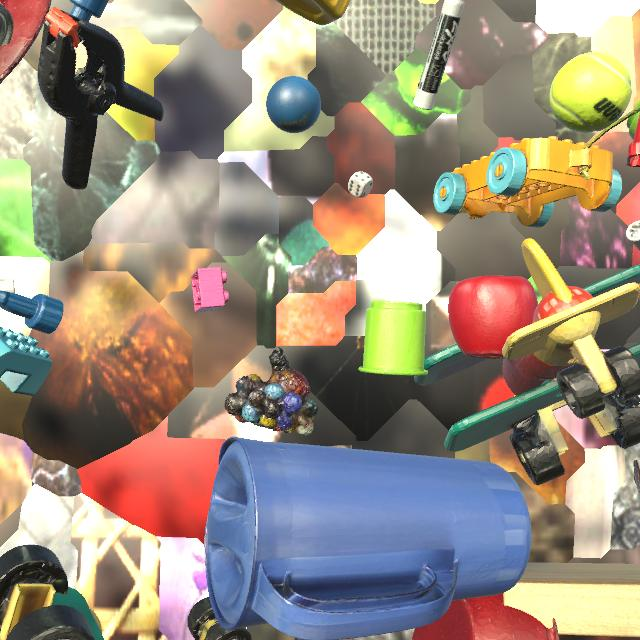ycb_005_tomato_soup_can: (0, 3, 14, 46)
ycb_006_mustard_bottle: (276, 0, 350, 25)
ycb_008_pudding_box: (633, 459, 640, 499)
ycb_011_banana: (90, 609, 102, 633)
ycb_013_apple: (448, 276, 538, 359)
